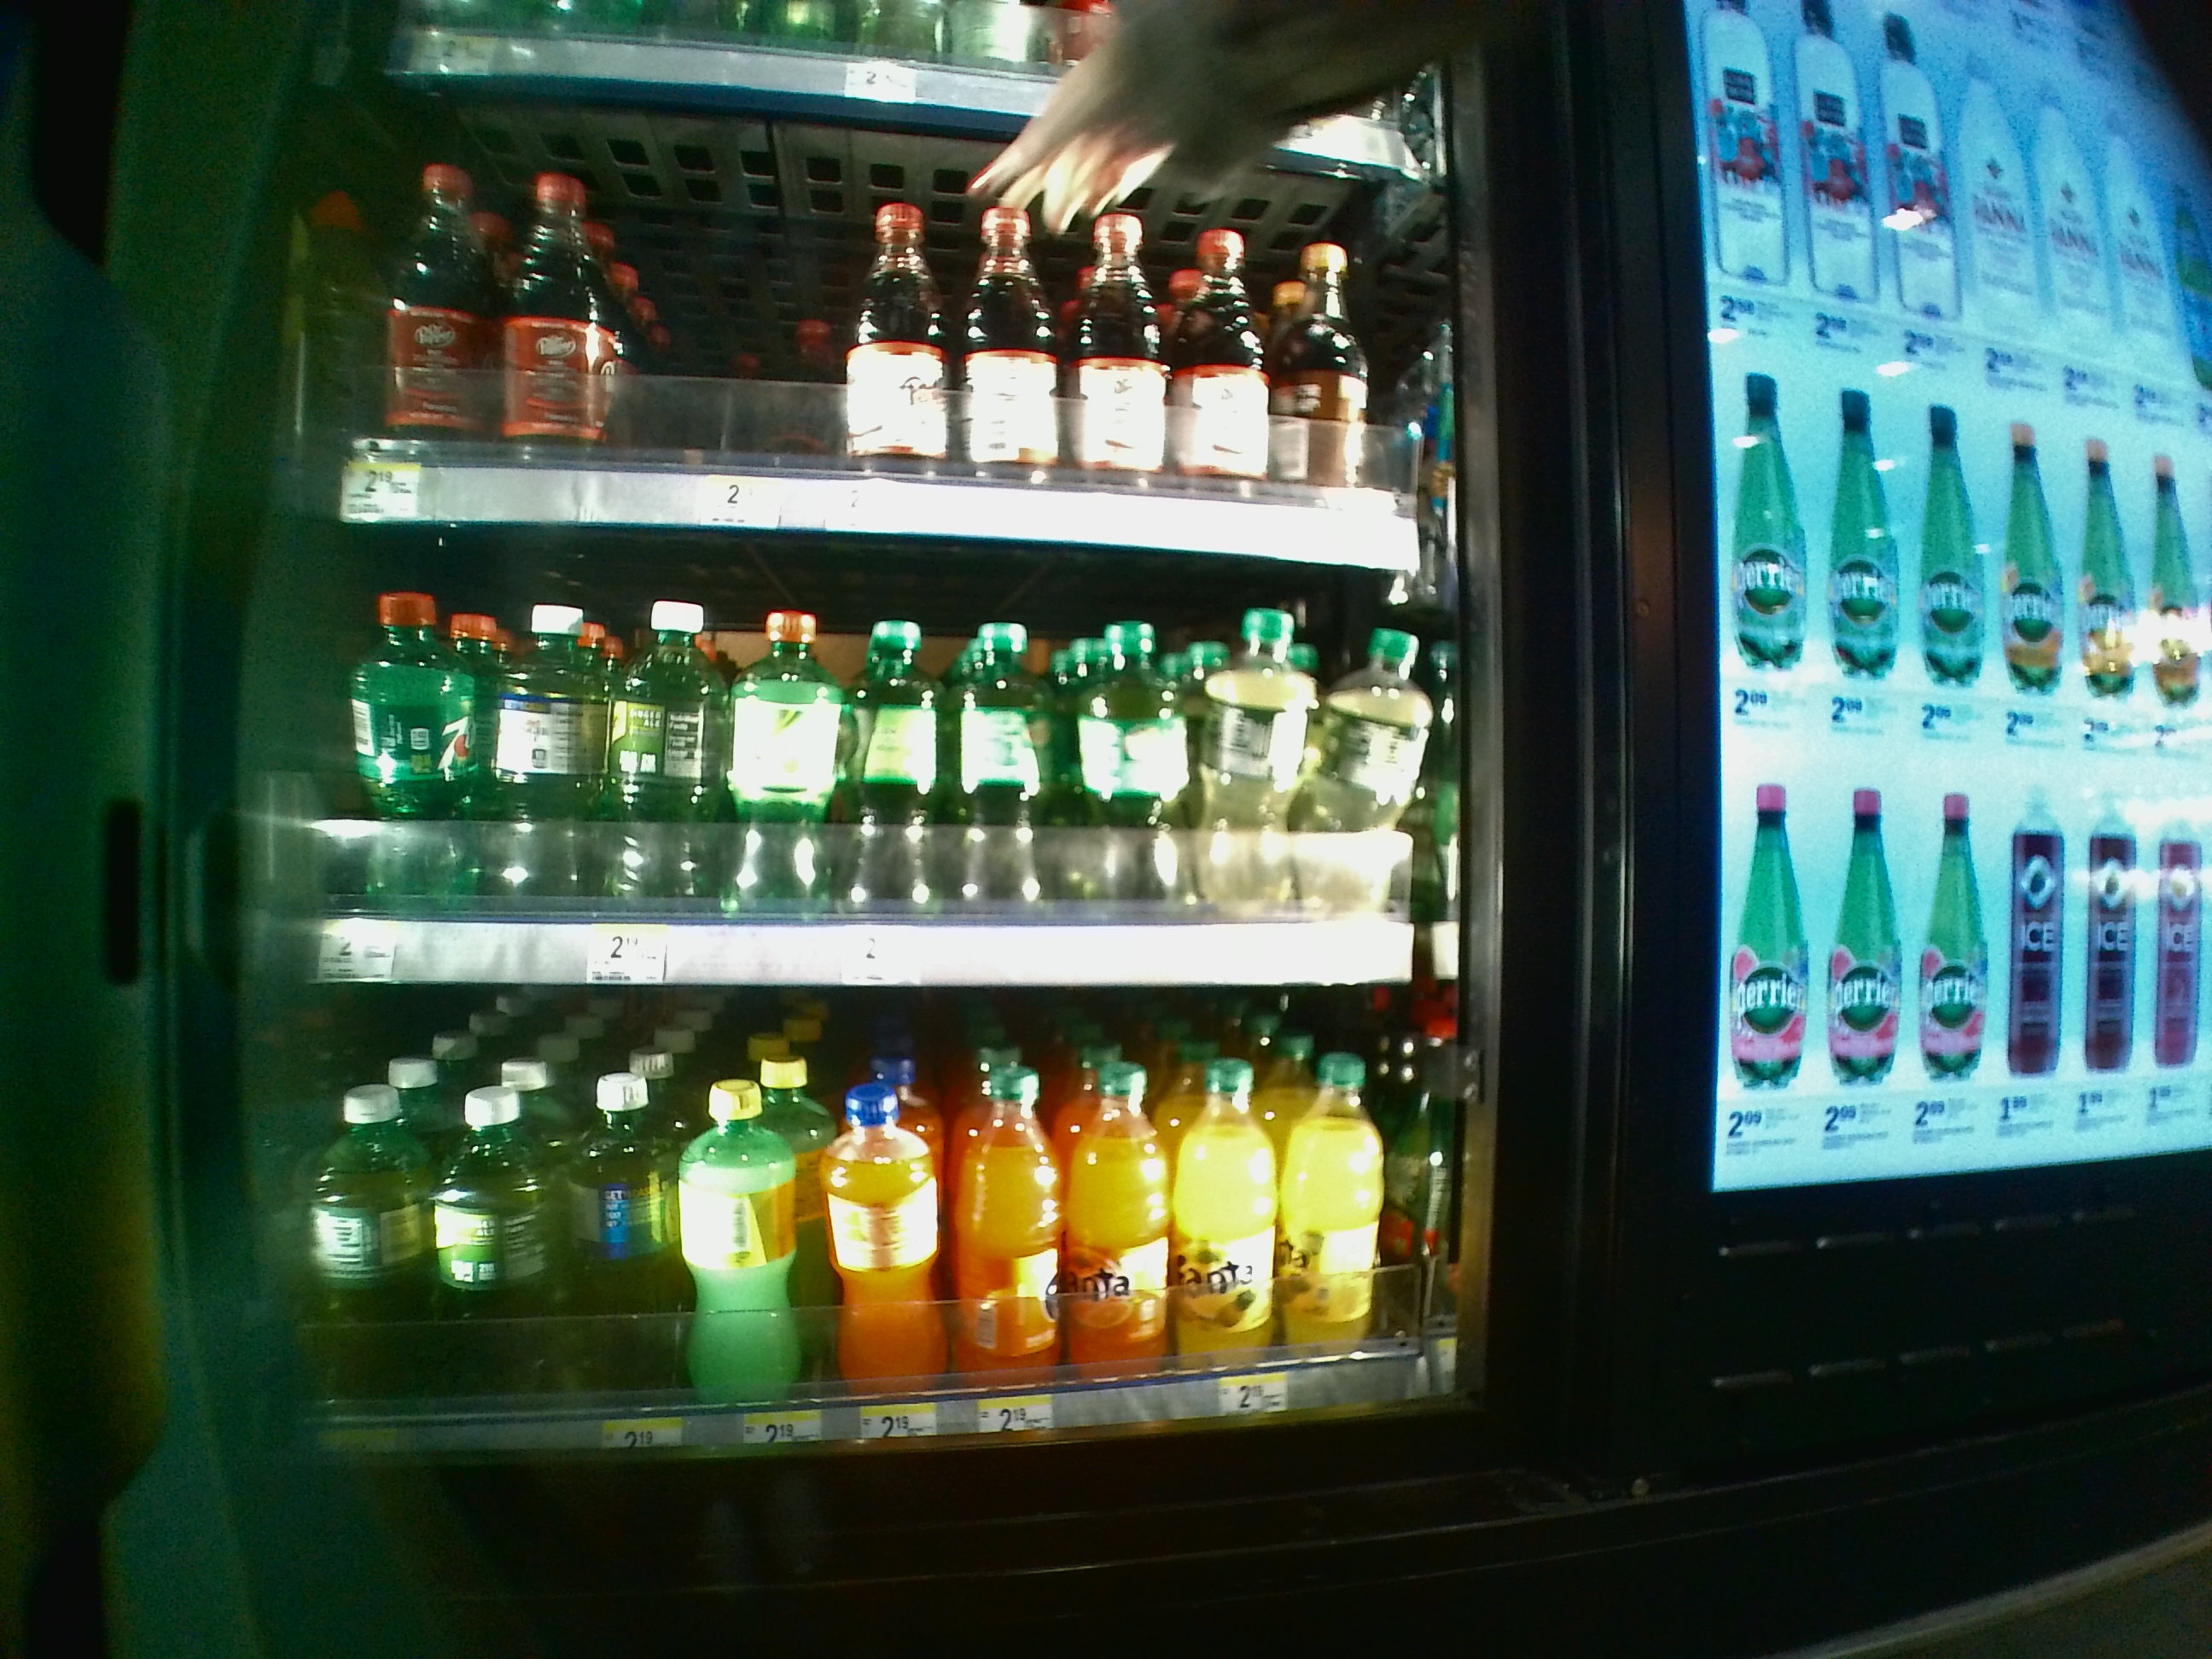Shelf: (301, 990, 1456, 1459), (303, 521, 1456, 988)
